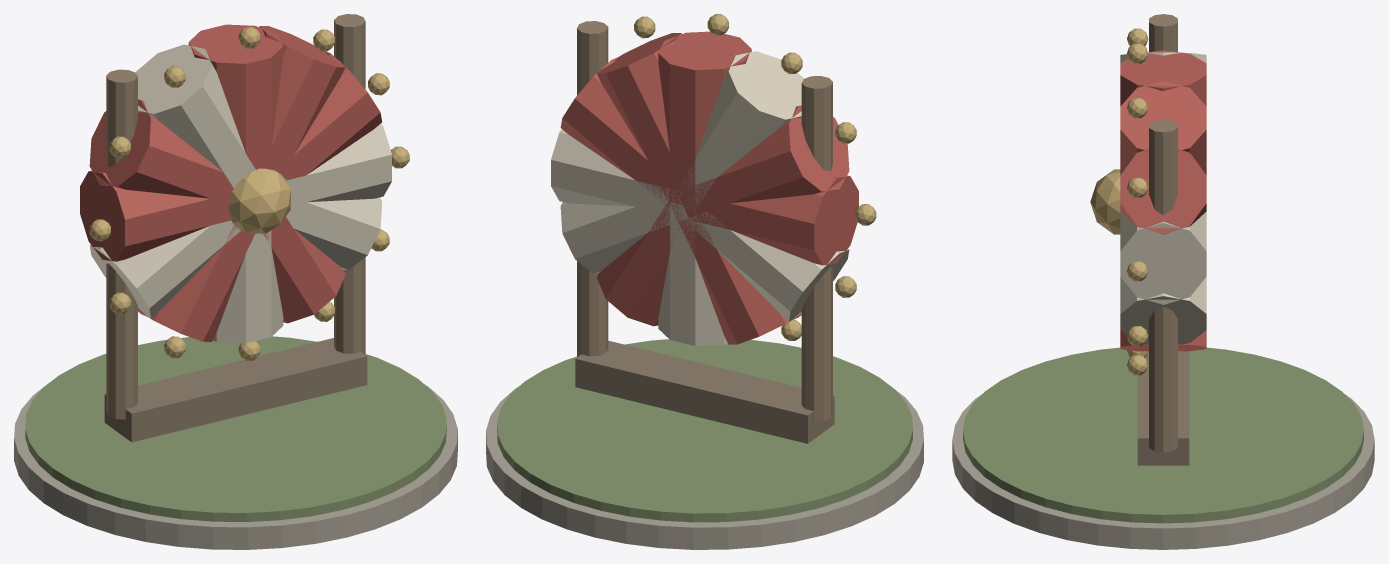
File: spinner.glb
The picture shows the model from 3 angles, left to right: view 1: azimuth 30°, elevation 25°; view 2: azimuth 150°, elevation 25°; view 3: azimuth 270°, elevation 25°; orthographic projection. The views are drawn at different scales.
Visible parts, largest first — view 1: world; view 2: world; view 3: world.
Boxes of the visible parts, x1=… form: world: x1=14, y1=14, x2=457, y2=549; world: x1=486, y1=14, x2=923, y2=549; world: x1=952, y1=14, x2=1374, y2=549.
Bounding box in the file's own units: 0.98 × 1.07 × 0.98.
